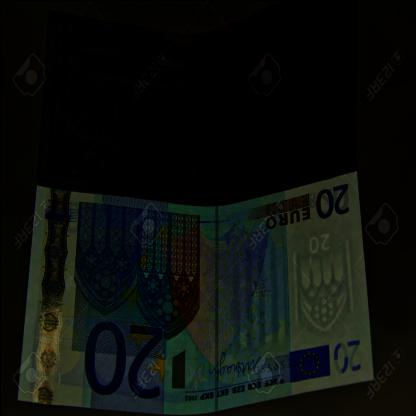euro_banknote: (15, 180, 370, 409)
